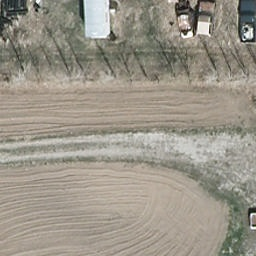camping car: (83, 0, 113, 38)
car: (173, 0, 196, 38), (199, 0, 217, 39)
